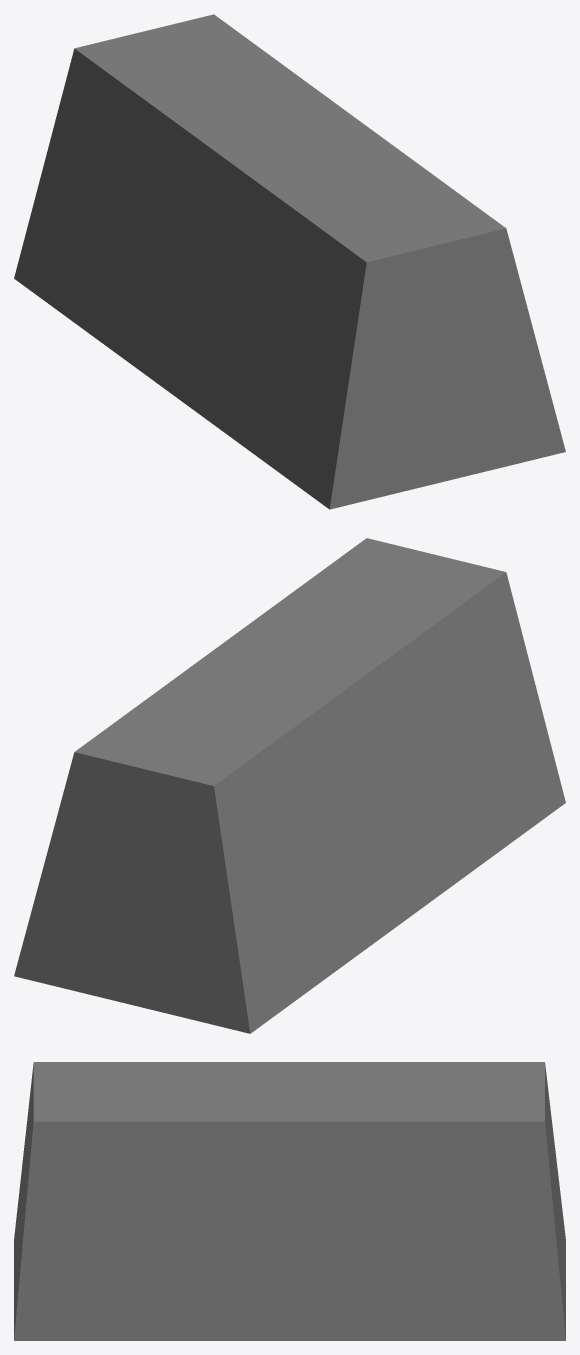
The model's file is long-brick.glb.
3 renders of one model, top to bottom at view 1: azimuth 30°, elevation 25°; view 2: azimuth 150°, elevation 25°; view 3: azimuth 270°, elevation 25°, orthographic. The views are drawn at different scales.
Parts seen in each view (by area): view 1: building construction e long brickModel; view 2: building construction e long brickModel; view 3: building construction e long brickModel.
Part boxes in pixels (bbox=[...]): building construction e long brickModel: bbox=[14, 14, 565, 509]; building construction e long brickModel: bbox=[14, 538, 565, 1033]; building construction e long brickModel: bbox=[14, 1062, 565, 1340].
Size of the model in its own units: 0.7109 by 0.653 by 1.64.
2 materials, 1 textured.
